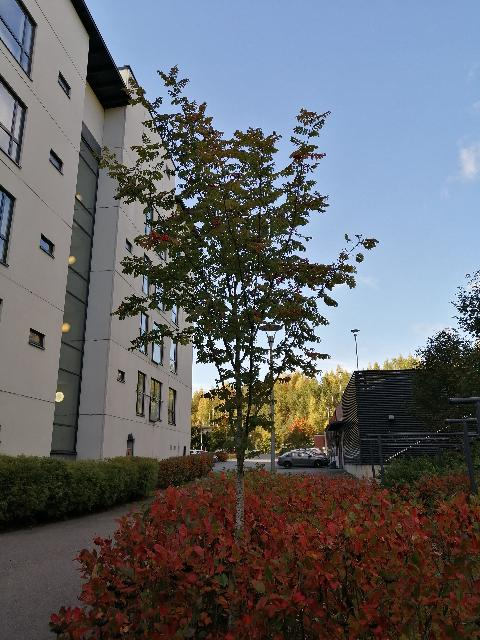rowan: (88, 57, 384, 635)
